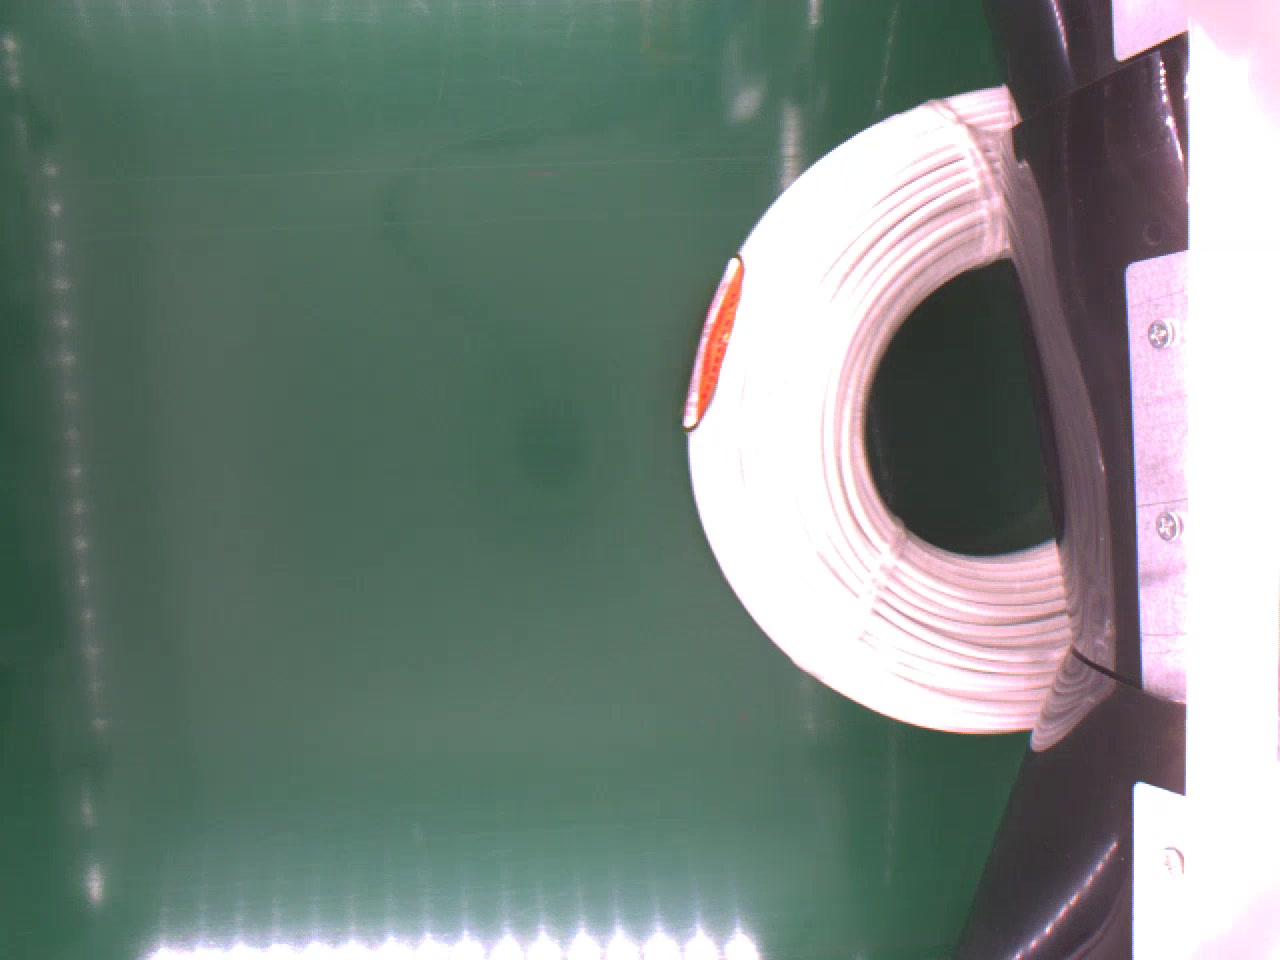white: (682, 83, 1070, 738)
